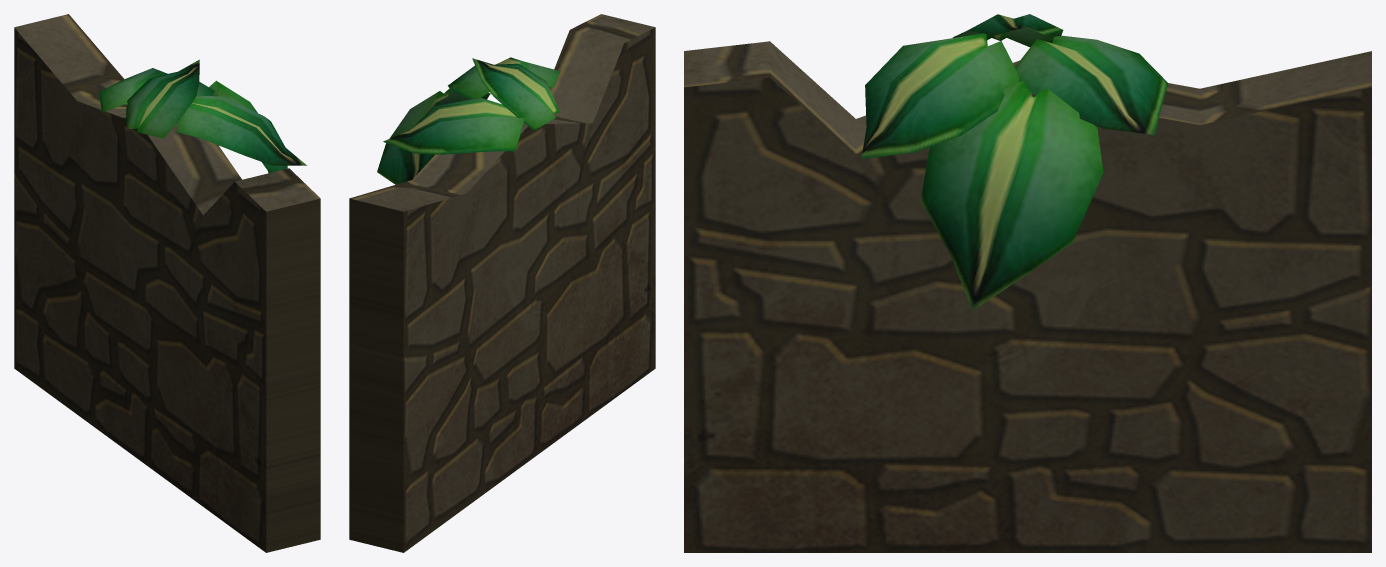
Rendered from pared_hojas.FBX.
3 views of the same model, side by side, from view 1: azimuth 30°, elevation 25°; view 2: azimuth 150°, elevation 25°; view 3: azimuth 270°, elevation 25° (orthographic). The views are drawn at different scales.
Visible parts, largest first — view 1: Box038; view 2: Box038; view 3: Box038.
Part boxes in pixels (x1=…): Box038: x1=14, y1=14, x2=320, y2=552; Box038: x1=349, y1=14, x2=655, y2=552; Box038: x1=684, y1=14, x2=1371, y2=552.
Size of the model in its own units: 586 by 1357 by 1600.
2 materials, 2 textured.
